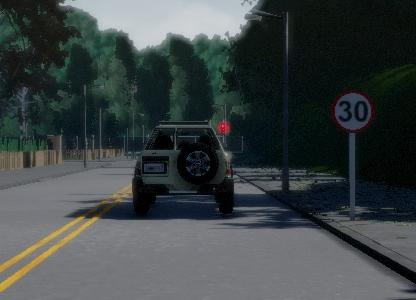Speed_30: (329, 90, 377, 135)
